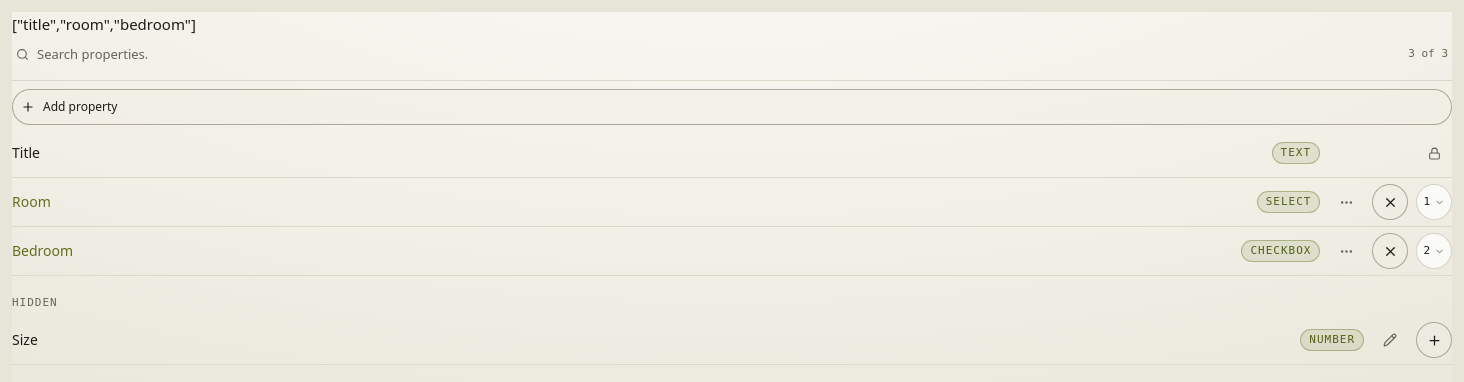
ColumnPanel › offers conversion for a column format that can become a relation
Click the button named "More actions for Room". click: point(1346, 202)
box: [1328,184,1364,220]
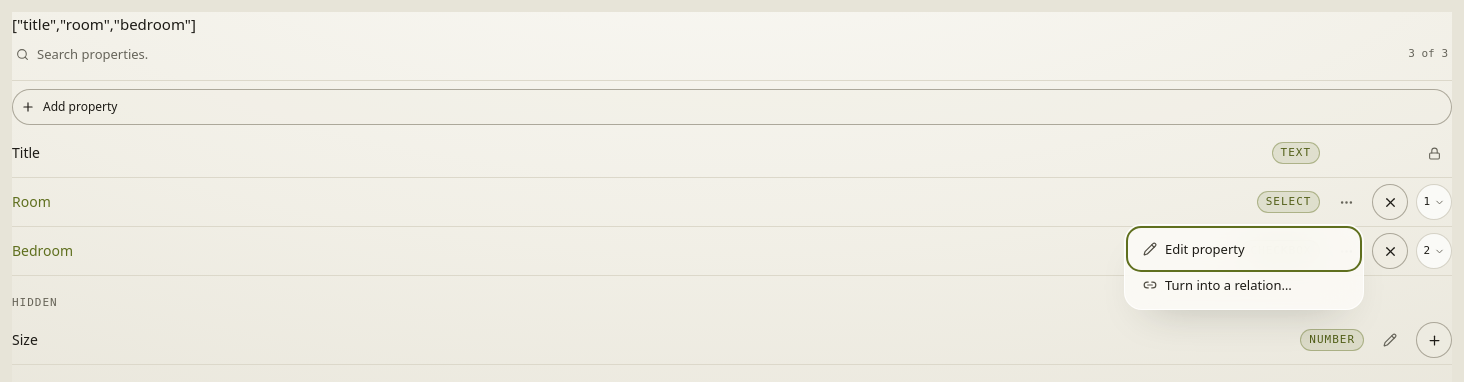
expect the menu item "Turn into a relation…" is enabled: met, box [1143,276,1292,294]
